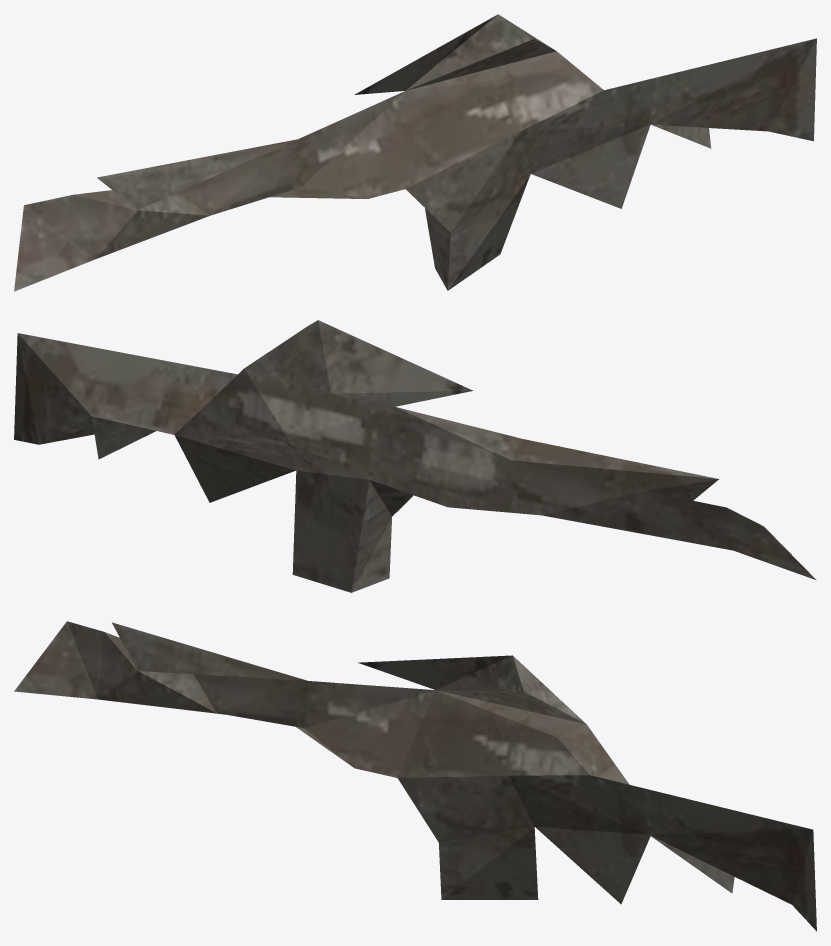
Rendered from prop.rifle_ranger.lod.glb.
3 views of the same model, one above another, from view 1: azimuth 30°, elevation 25°; view 2: azimuth 150°, elevation 25°; view 3: azimuth 330°, elevation 25° (orthographic).
Parts seen in each view (by area): view 1: body; view 2: body; view 3: body.
Boxes of the visible parts, x1,y1,x2,y2 form: body: (14, 14, 816, 291); body: (14, 320, 816, 592); body: (14, 621, 816, 931).
Size of the model in its own units: 0.5969 by 0.1798 by 0.0417.
1 material, 1 textured.
